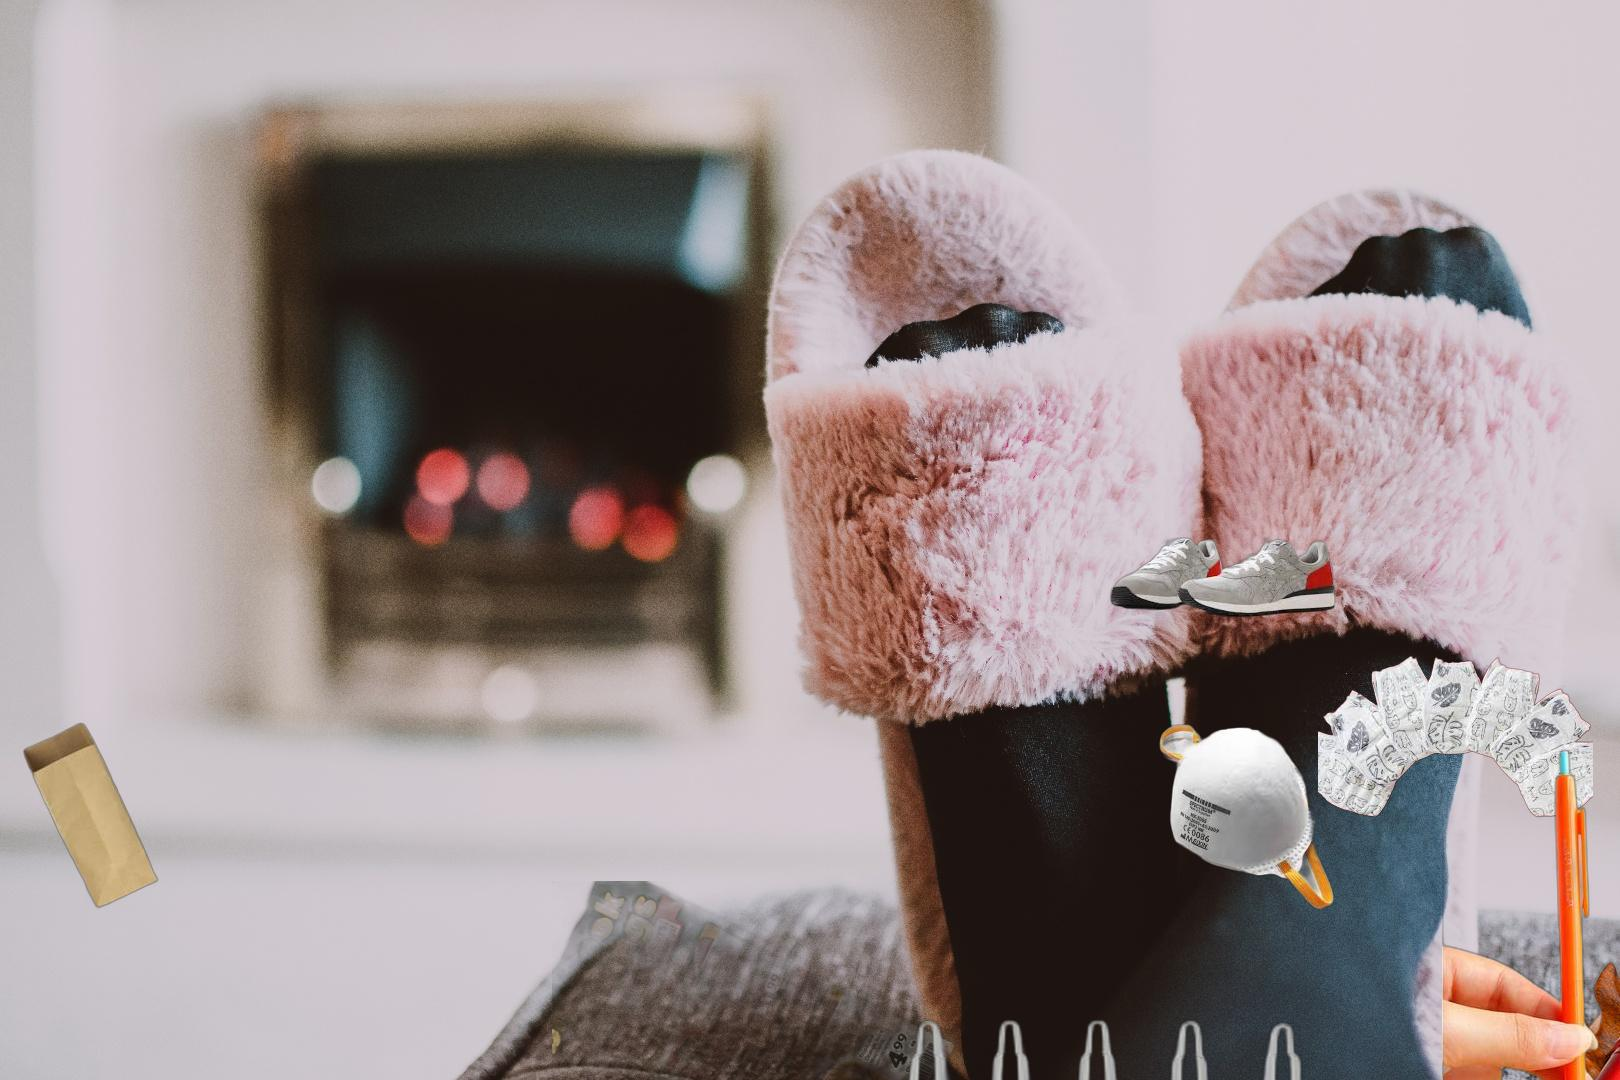paper: (552, 881, 1041, 1080)
paper-bag: (22, 720, 160, 911)
penholder: (1442, 732, 1620, 1080), (881, 1012, 1343, 1080), (1528, 767, 1620, 1080)
shoes: (1108, 535, 1338, 620)
trash: (1317, 653, 1593, 821), (1157, 721, 1338, 914)
